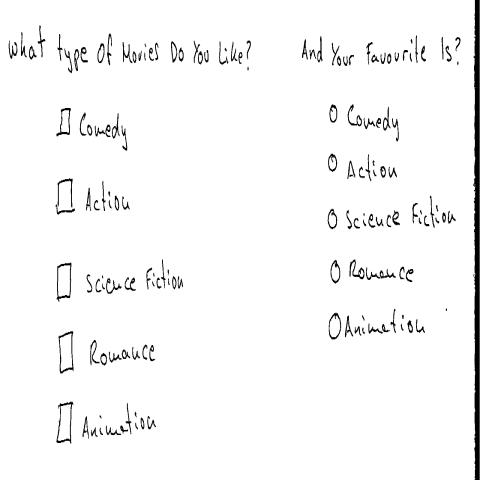Radio Button: (328, 302, 428, 345), (327, 95, 401, 148)
Select: (55, 258, 186, 305), (56, 398, 159, 450), (57, 325, 158, 376), (55, 169, 134, 224), (55, 105, 129, 156)
